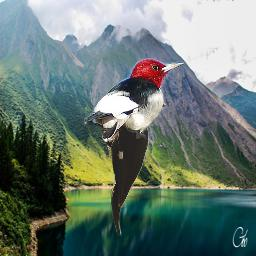Woodpecker: (95, 80, 166, 236), (84, 58, 187, 143)
